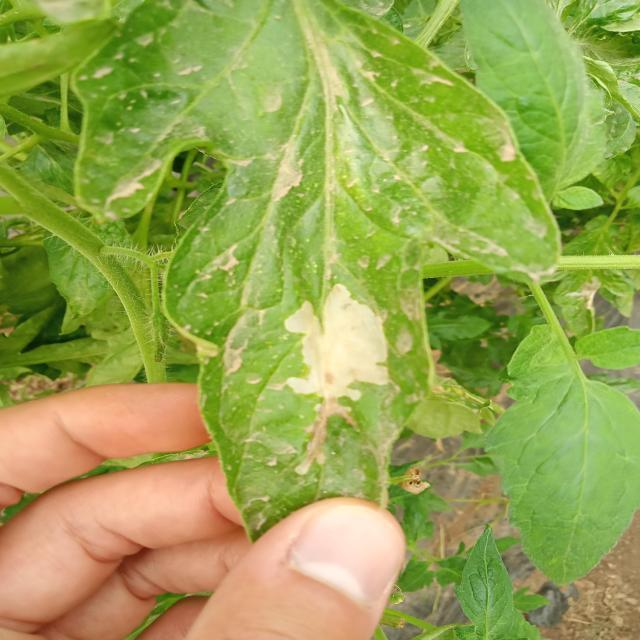Tuta absoluta: (280, 293, 395, 475)
